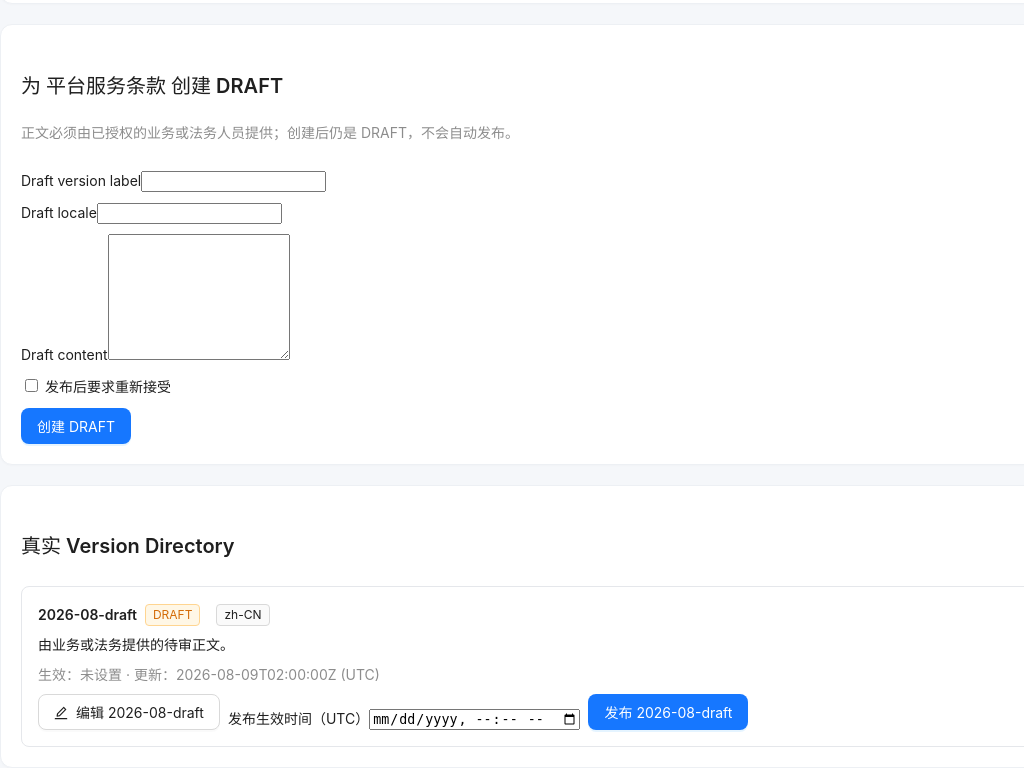
it: A-BIZ-06C.3 Platform Terms Operations Page › requires publish confirmation, reports replay, and refreshes server truth
(page scrolled)
Type "2026-08-12T00:00" into the field labelled "发布生效时间（UTC）" at (475, 720), box [369,709,580,730]
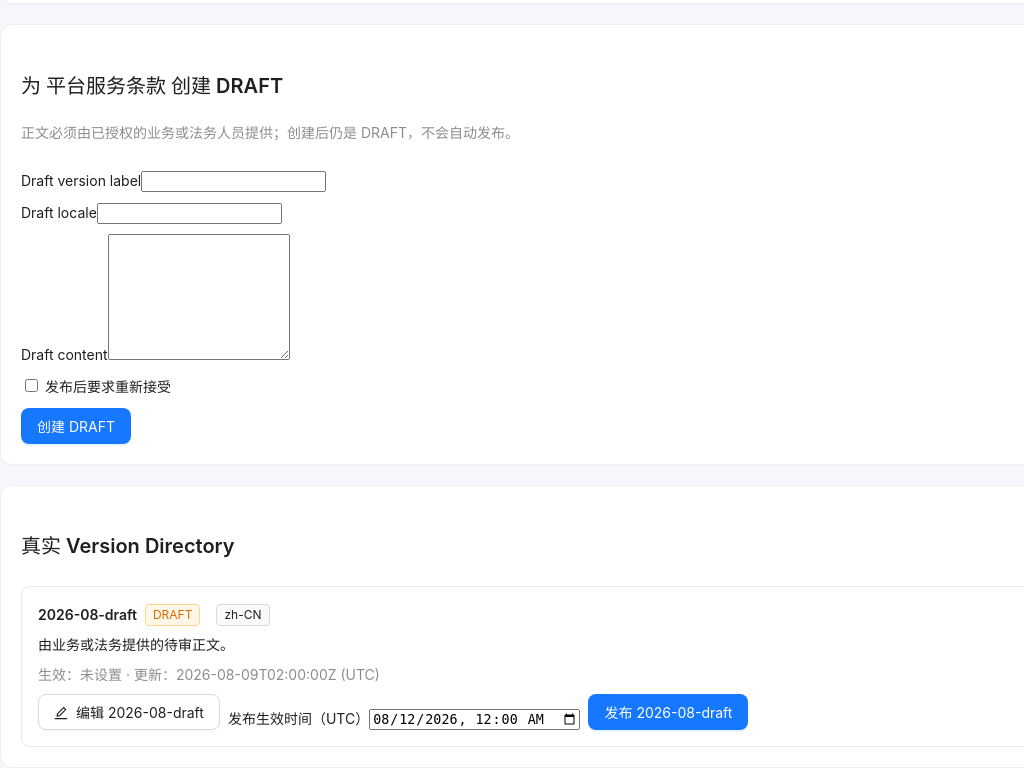
Click the button "发布 2026-08-draft" at (668, 712), box [588,694,748,730]
(page scrolled)
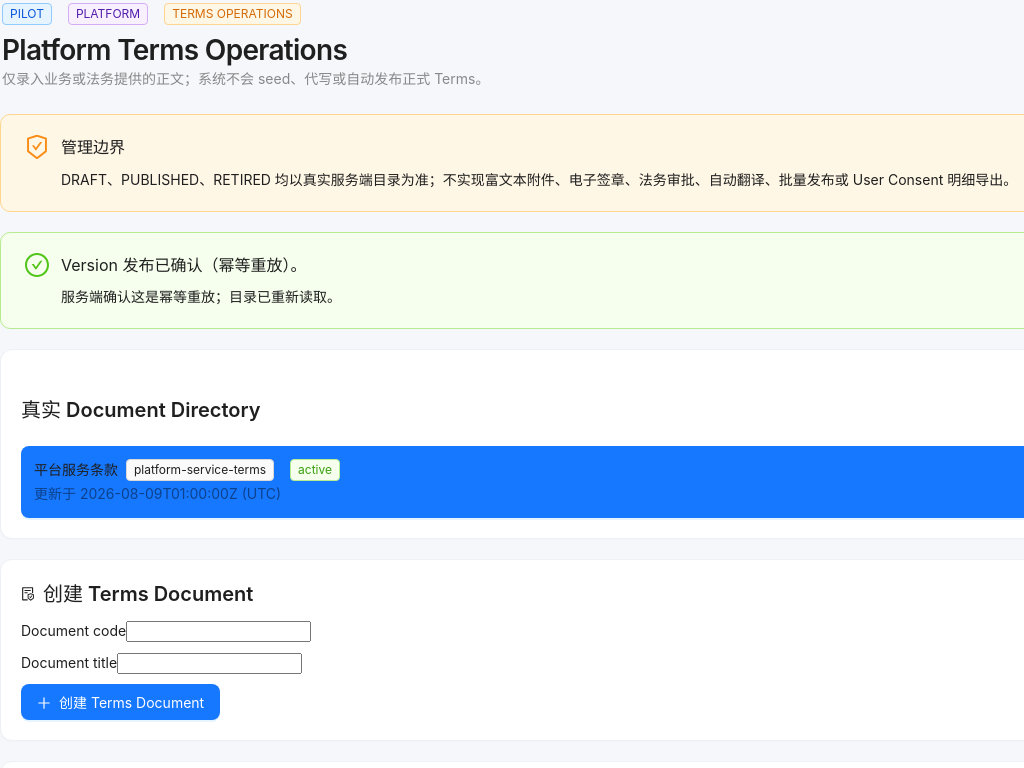
expect the message with test id "pilot-terms-mutation-success" shows "幂等重放": met, box [61,255,306,275]
